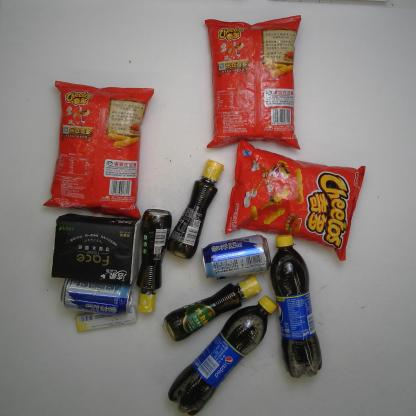Alcohol: (197, 233, 273, 282), (58, 271, 135, 318)
Candy: (72, 304, 140, 334)
Drink: (165, 293, 278, 416), (266, 232, 324, 377)
Puffed Food: (225, 134, 369, 263), (40, 76, 155, 223), (200, 11, 310, 153)
Seasoner: (163, 273, 265, 343), (164, 157, 226, 259), (134, 206, 174, 313)
Tissue: (48, 210, 142, 290)
